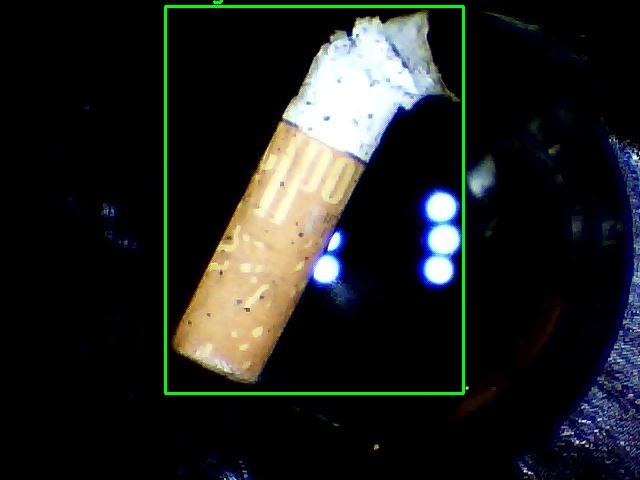megot: (165, 6, 463, 393)
